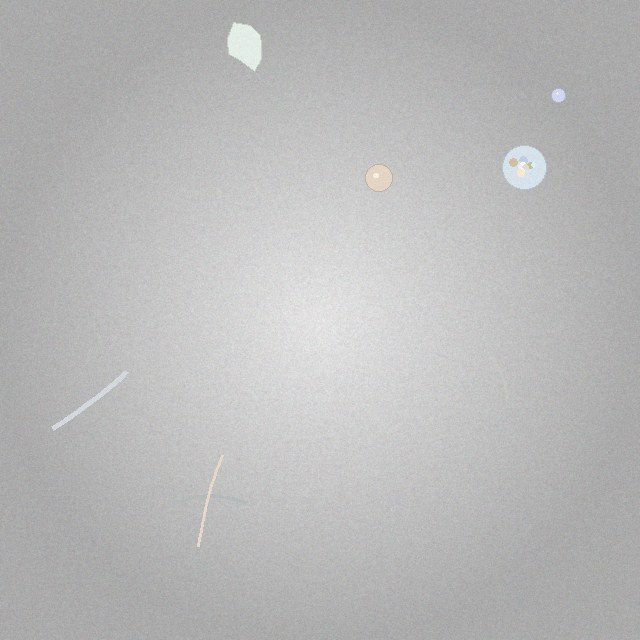fiber: (47, 366, 133, 434), (195, 452, 226, 551), (168, 492, 252, 509), (490, 355, 511, 402)
foam: (503, 145, 547, 189)
fragment: (228, 23, 262, 72)
pellet: (365, 165, 392, 192), (552, 88, 566, 102)
